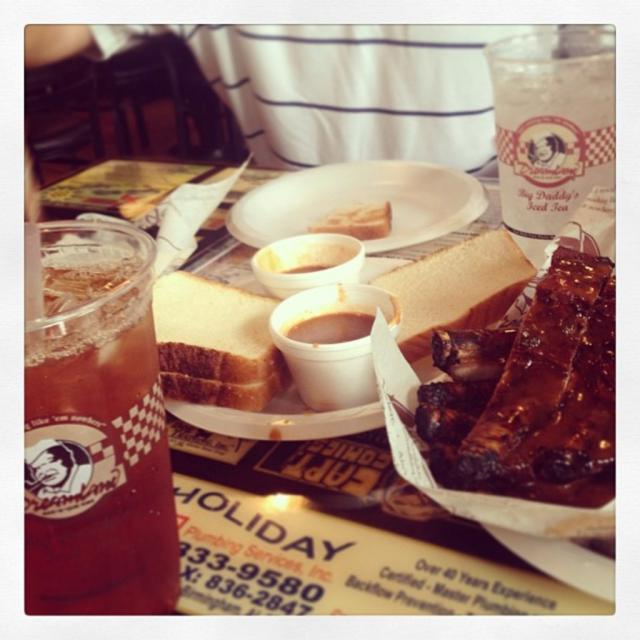Tea: (283, 313, 378, 343), (279, 261, 332, 272)
